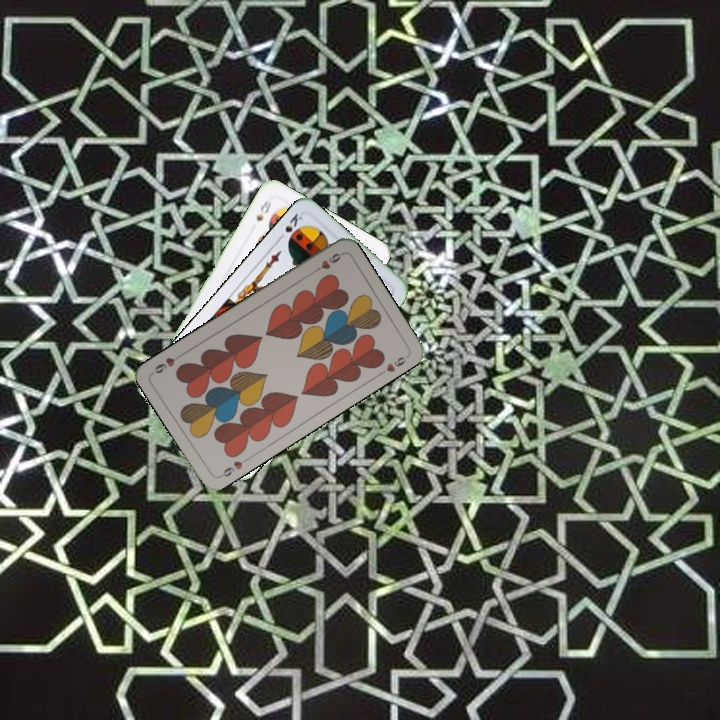H9: (215, 453, 252, 480), (309, 249, 345, 276)
S8: (252, 195, 274, 224)
SK: (274, 209, 305, 244)
